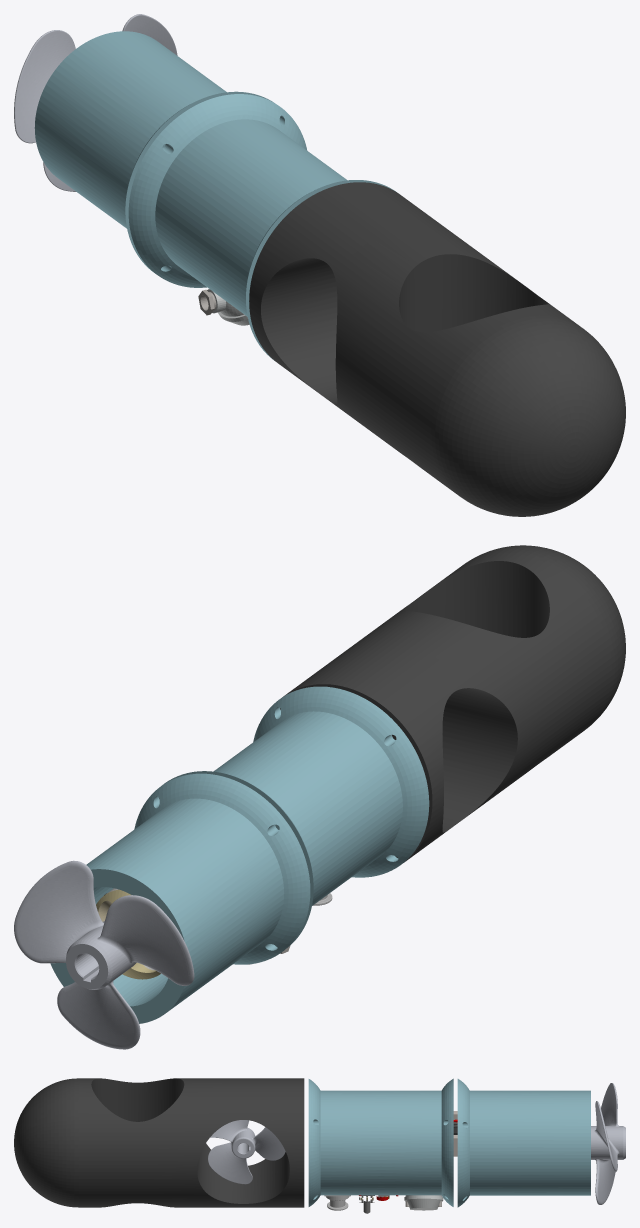
The model's file is auv1-compressed.glb.
3 renders of one model, top to bottom at view 1: azimuth 30°, elevation 25°; view 2: azimuth 150°, elevation 25°; view 3: azimuth 270°, elevation 25°, orthographic. The views are drawn at different scales.
Visible parts, largest first — view 1: empty_2; view 2: empty_2; view 3: empty_2.
Part boxes in pixels (<box>): empty_2: <box>14,14,625,516</box>; empty_2: <box>14,545,625,1049</box>; empty_2: <box>14,1078,625,1213</box>.
Bounding box in the file's own units: 160 × 176 × 758.
